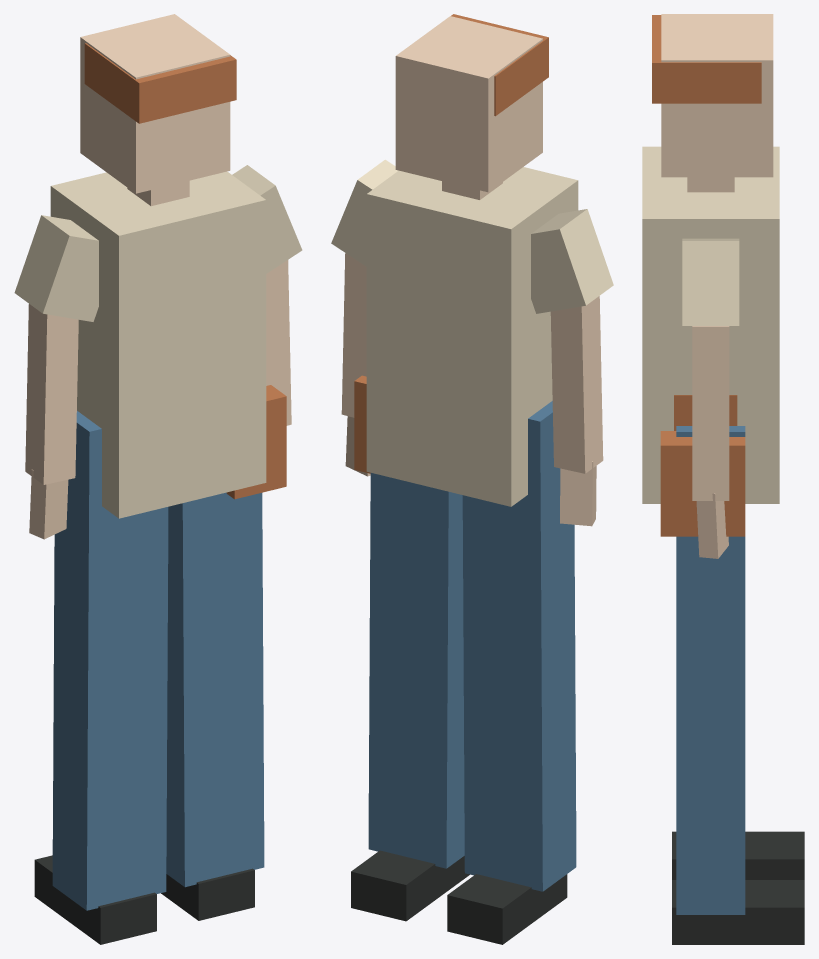
The model's file is pedestrian_03_far.glb.
3 views of the same model, side by side, from view 1: azimuth 30°, elevation 25°; view 2: azimuth 150°, elevation 25°; view 3: azimuth 270°, elevation 25° (orthographic). The views are drawn at different scales.
Parts seen in each view (by area): view 1: pedestrian_03 crowd_trousers.001, pedestrian_03 crowd_shirt.001, pedestrian_03 crowd_skin.001, pedestrian_03 crowd_rubber.001, pedestrian_03 crowd_accessory.001; view 2: pedestrian_03 crowd_trousers.001, pedestrian_03 crowd_shirt.001, pedestrian_03 crowd_skin.001, pedestrian_03 crowd_rubber.001, pedestrian_03 crowd_accessory.001; view 3: pedestrian_03 crowd_shirt.001, pedestrian_03 crowd_trousers.001, pedestrian_03 crowd_skin.001, pedestrian_03 crowd_rubber.001, pedestrian_03 crowd_accessory.001.
Part boxes in pixels (x1,y1,x2,y2): pedestrian_03 crowd_trousers.001: (52, 411, 264, 910); pedestrian_03 crowd_shirt.001: (14, 165, 302, 518); pedestrian_03 crowd_skin.001: (25, 14, 291, 539); pedestrian_03 crowd_rubber.001: (34, 43, 254, 944); pedestrian_03 crowd_accessory.001: (226, 385, 286, 499); pedestrian_03 crowd_trousers.001: (368, 401, 576, 891); pedestrian_03 crowd_shirt.001: (331, 159, 613, 506); pedestrian_03 crowd_skin.001: (341, 16, 603, 526); pedestrian_03 crowd_rubber.001: (351, 14, 567, 944); pedestrian_03 crowd_accessory.001: (354, 375, 370, 473); pedestrian_03 crowd_shirt.001: (642, 146, 779, 503); pedestrian_03 crowd_trousers.001: (676, 426, 745, 914); pedestrian_03 crowd_skin.001: (661, 14, 773, 558); pedestrian_03 crowd_rubber.001: (652, 15, 804, 944); pedestrian_03 crowd_accessory.001: (660, 395, 745, 536).
Bounding box in the file's own units: 0.5488 × 1.74 × 0.2952.
